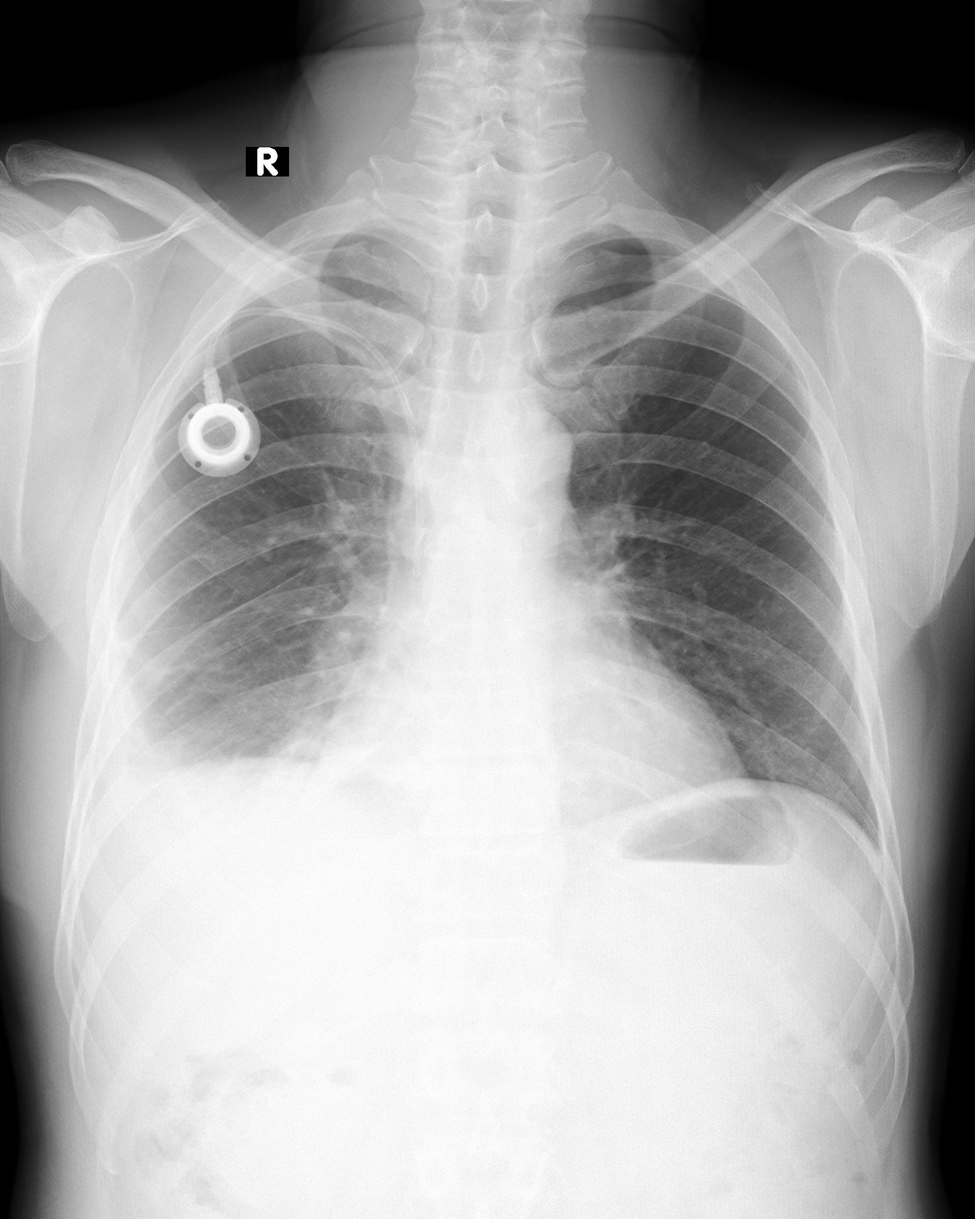Cardiomegaly: (322, 697, 756, 863)
